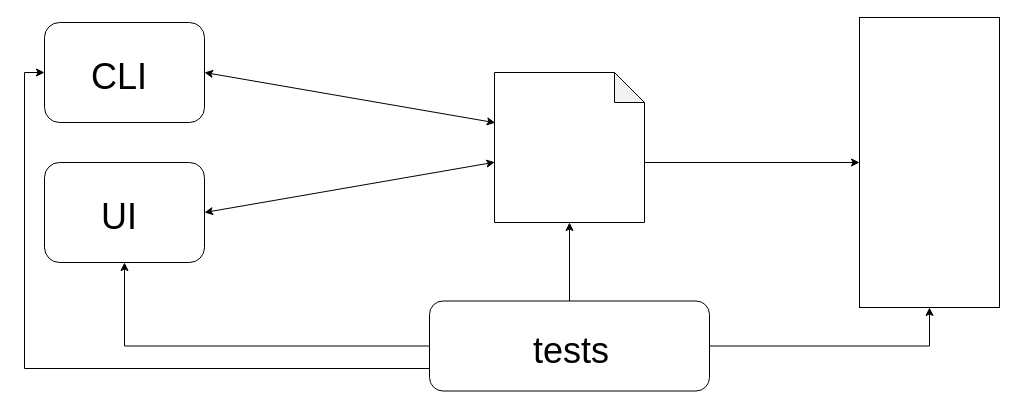
This 1017x409 diagram has some shape labels left out. The centre of each missing label's shape, as x and y in pixels:
api.py: the point at 569,147
core: the point at 929,162
